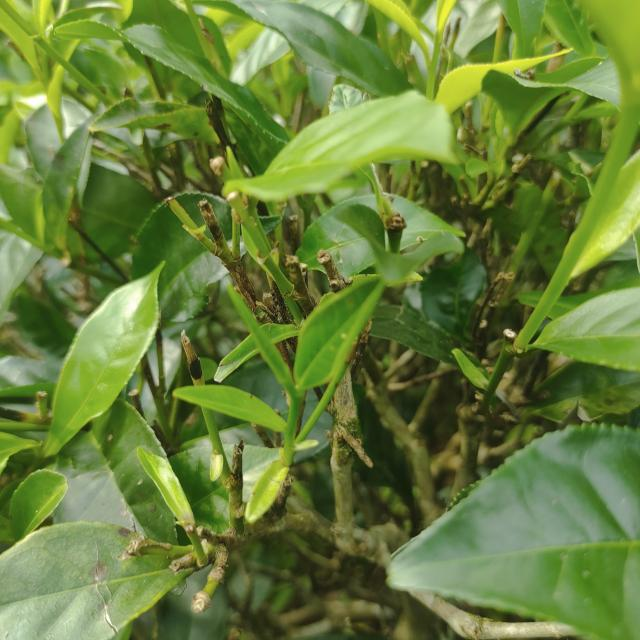unopened_leaf: (220, 277, 298, 401), (352, 158, 389, 214)
